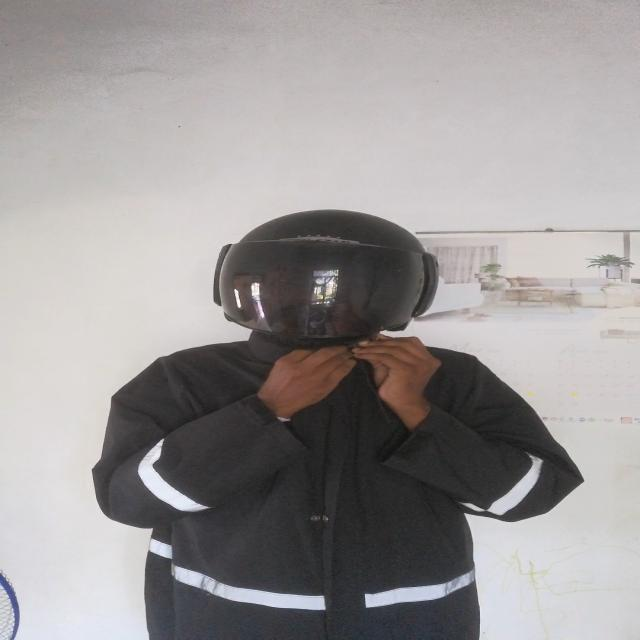Helmet_Wearer: (201, 204, 452, 358)
Jacket_Wearer: (85, 308, 585, 640)
Person: (96, 206, 588, 638)
